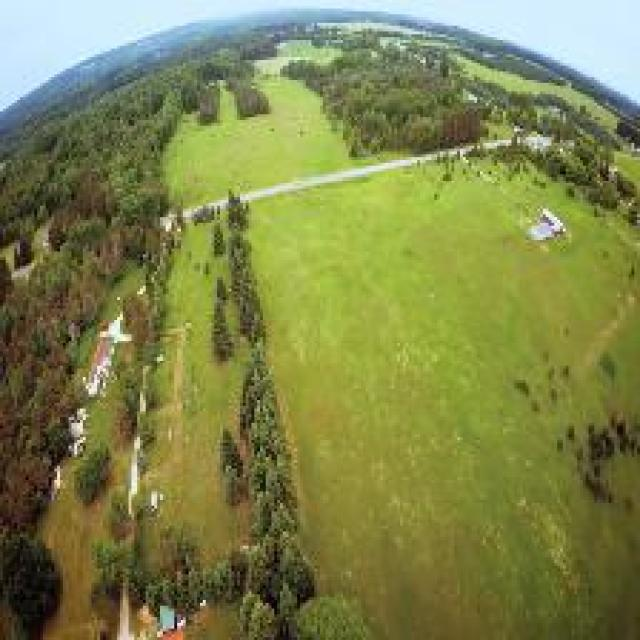other: (93, 298, 194, 620), (523, 203, 580, 249)
